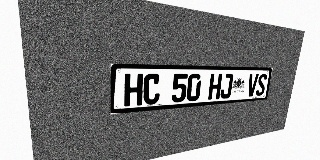0: (186, 74, 202, 102)
5: (171, 74, 188, 103)
C: (143, 74, 161, 105)
H: (124, 74, 143, 107), (208, 74, 222, 100)
J: (220, 74, 234, 99)
S: (255, 74, 267, 96)
V: (246, 74, 259, 97)
